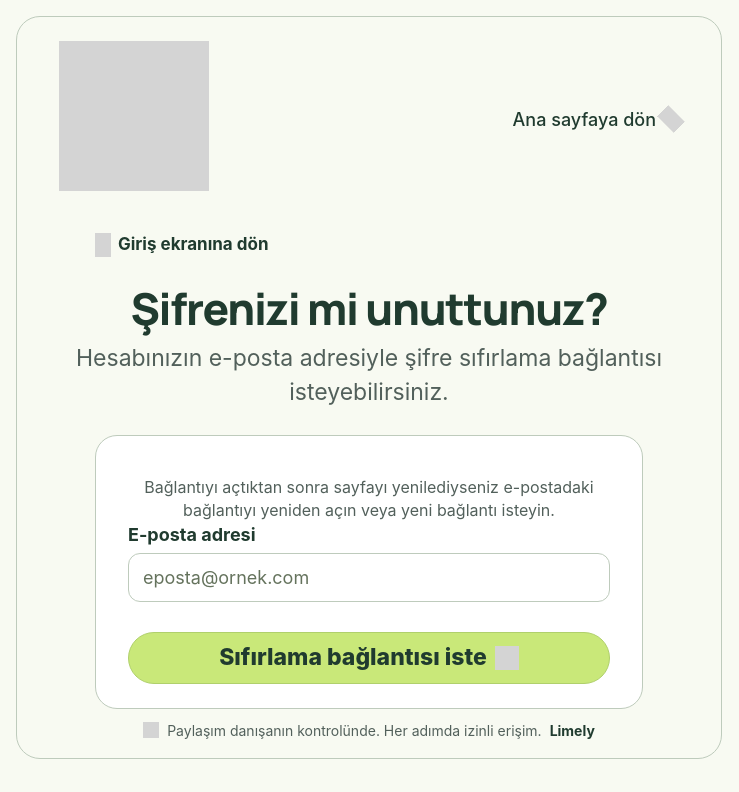
Test: requesting a real reset link › uses the same safe success message for any accepted address without account disclosure
In the field labelled "E-posta adresi": [369, 578] box [128,554,610,602], type "existing@example.test"
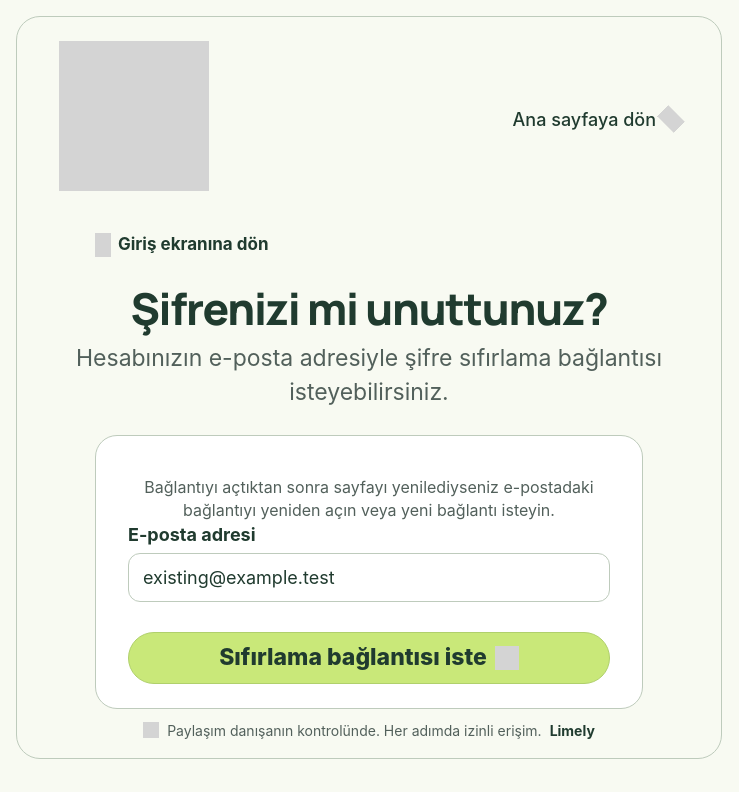
Submit the form, box [128,522,610,684]
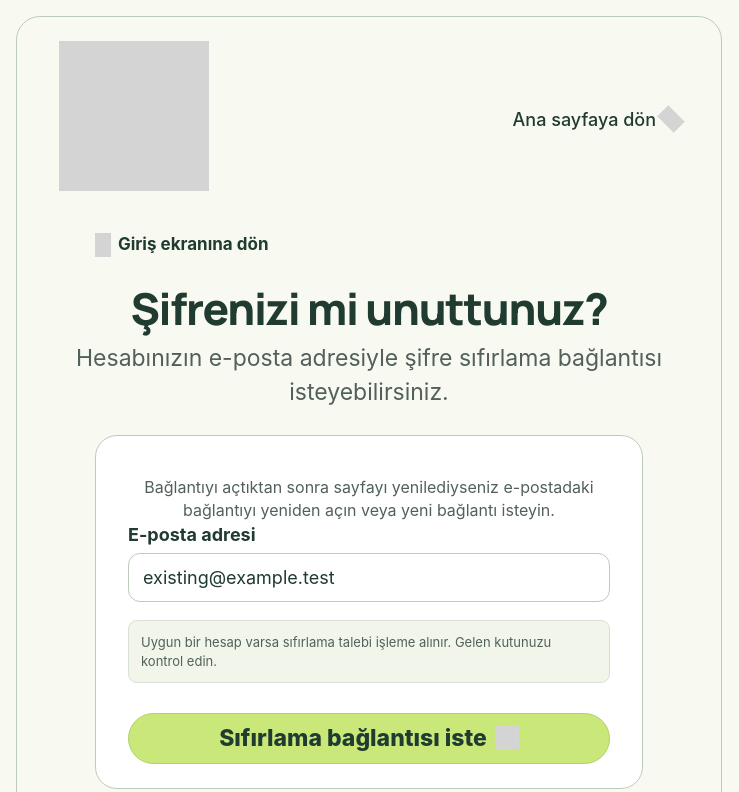
Now the message shows "Uygun bir hesap varsa sıfırlama talebi işleme alınır. Gelen kutunuzu kontrol edin.", box [141,634,551,669]
Replace the text in the field labelled "E-posta adresi" with "missing@example.test": [369, 578] box [128,554,610,602]
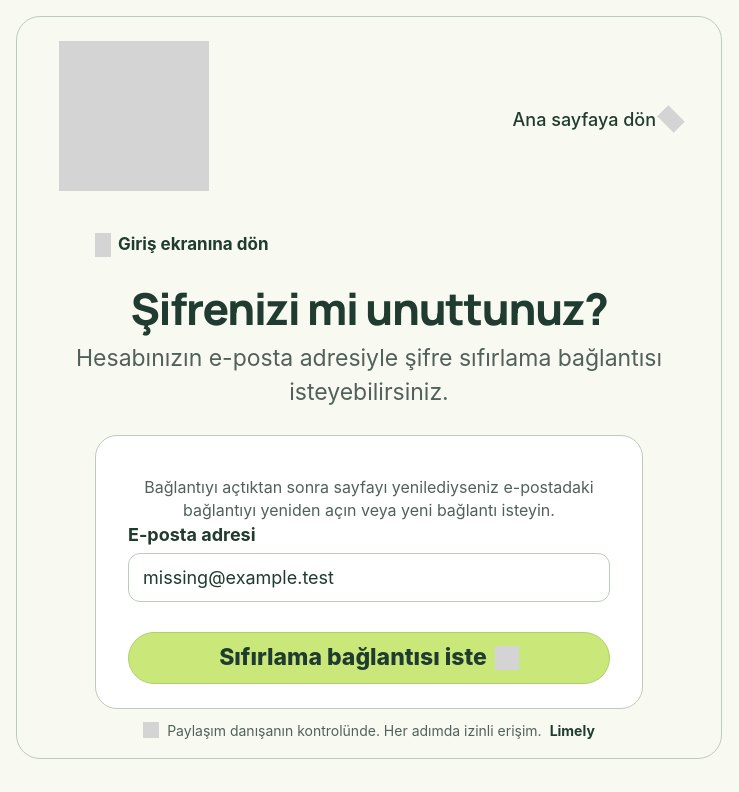
Submit the form, box [128,522,610,684]
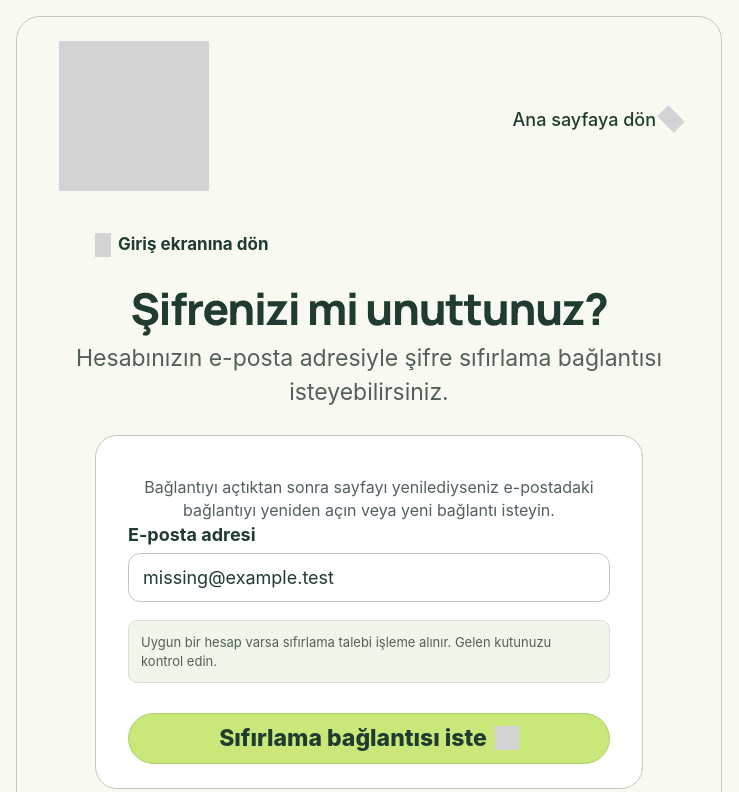
Now the message shows "Uygun bir hesap varsa sıfırlama talebi işleme alınır. Gelen kutunuzu kontrol edin.", box [141,634,551,669]
